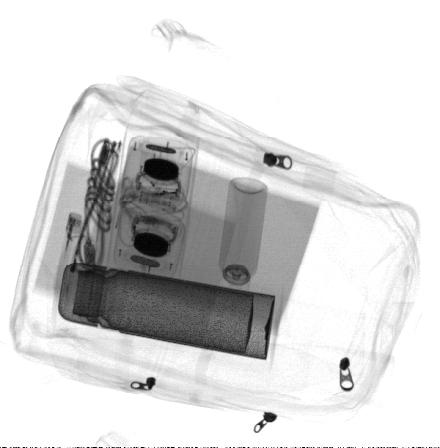Lighter: (50, 213, 85, 294)
Sprayer: (218, 177, 268, 305)
